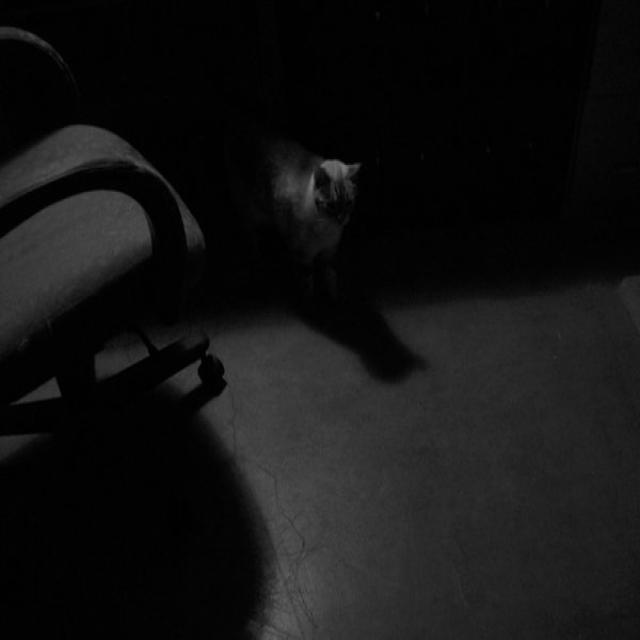Cat: (194, 65, 397, 310)
chair: (5, 20, 224, 566)
